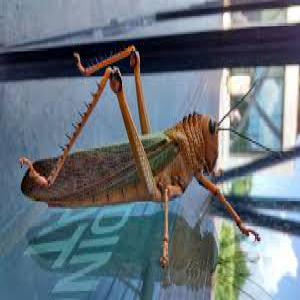locust: (22, 72, 251, 226)
